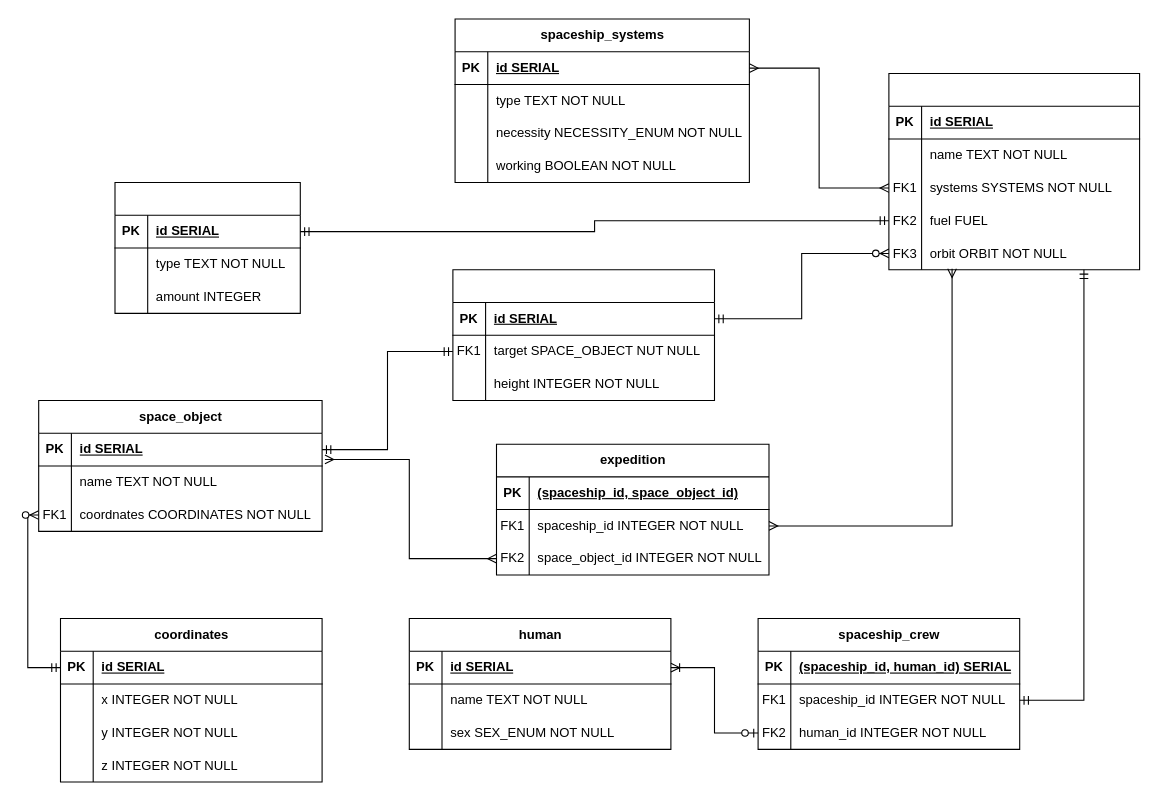
Some shapes in this 1159 by 801 pixel diagram are drawn without their labels. Each missing label, with the box of its shape:
fuel: (114, 181, 300, 313)
orbit: (452, 269, 714, 401)
spaceship: (888, 72, 1140, 270)
